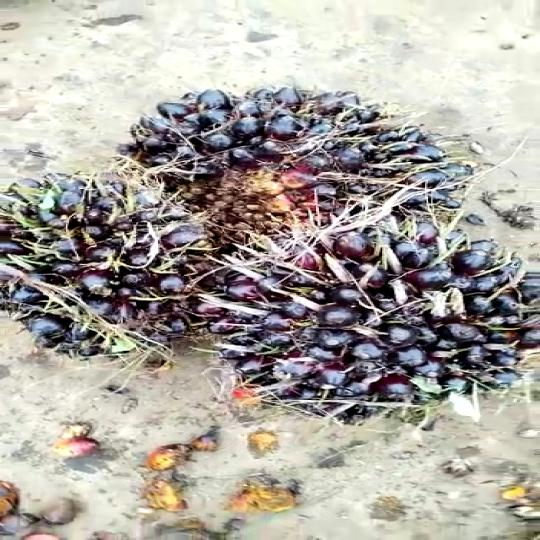mentah: (143, 207, 540, 414), (127, 85, 457, 231), (0, 167, 227, 346)
